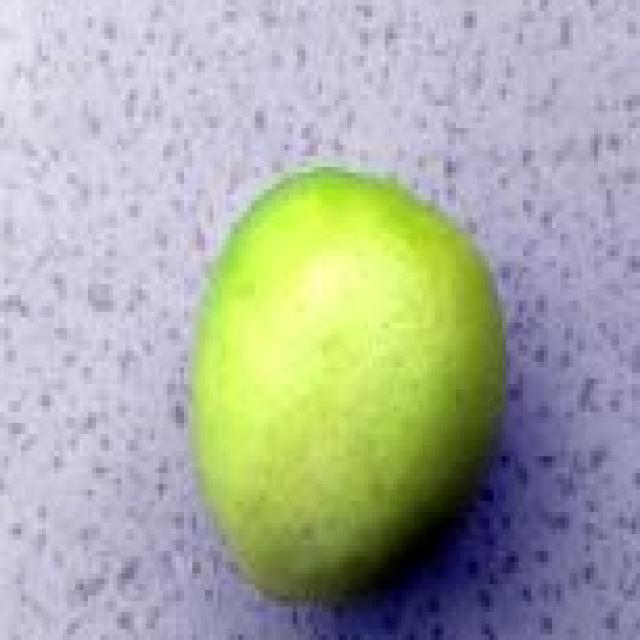Good_Lime-10-21-days: (188, 167, 506, 607)
